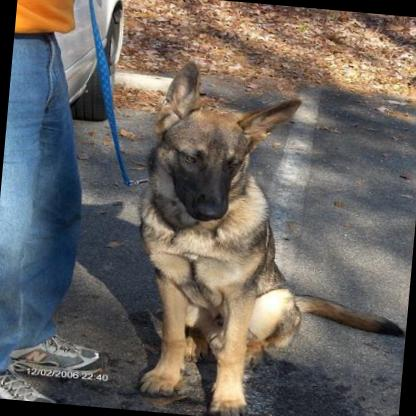German_shepherd: (116, 52, 416, 416)
